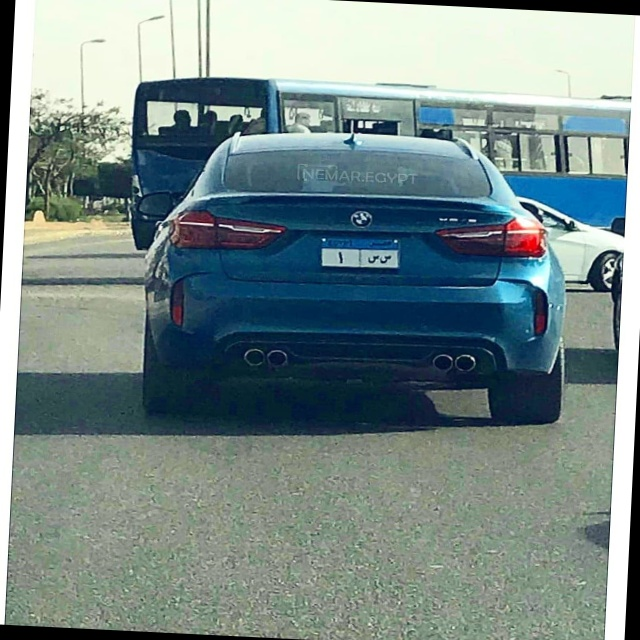License Plate: (318, 234, 402, 273)
